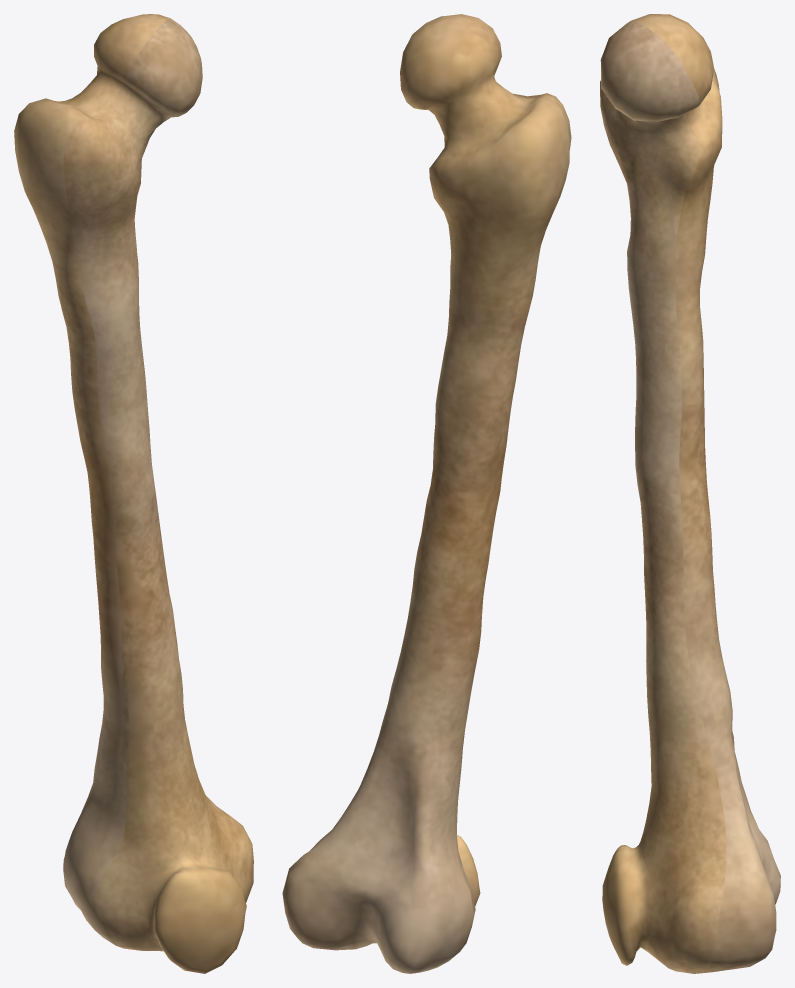
The model's file is large_bone_1.glb.
3 views of the same model, side by side, from view 1: azimuth 30°, elevation 25°; view 2: azimuth 150°, elevation 25°; view 3: azimuth 270°, elevation 25° (orthographic). The views are drawn at different scales.
Parts seen in each view (by area): view 1: Hueso grande.001; view 2: Hueso grande.001; view 3: Hueso grande.001.
Boxes of the visible parts, bbox=[...] form: Hueso grande.001: bbox=[14, 14, 253, 973]; Hueso grande.001: bbox=[282, 14, 571, 973]; Hueso grande.001: bbox=[600, 14, 780, 973].
Bounding box in the file's own units: 0.5034 × 1.93 × 0.3427.
1 material, 1 textured.
